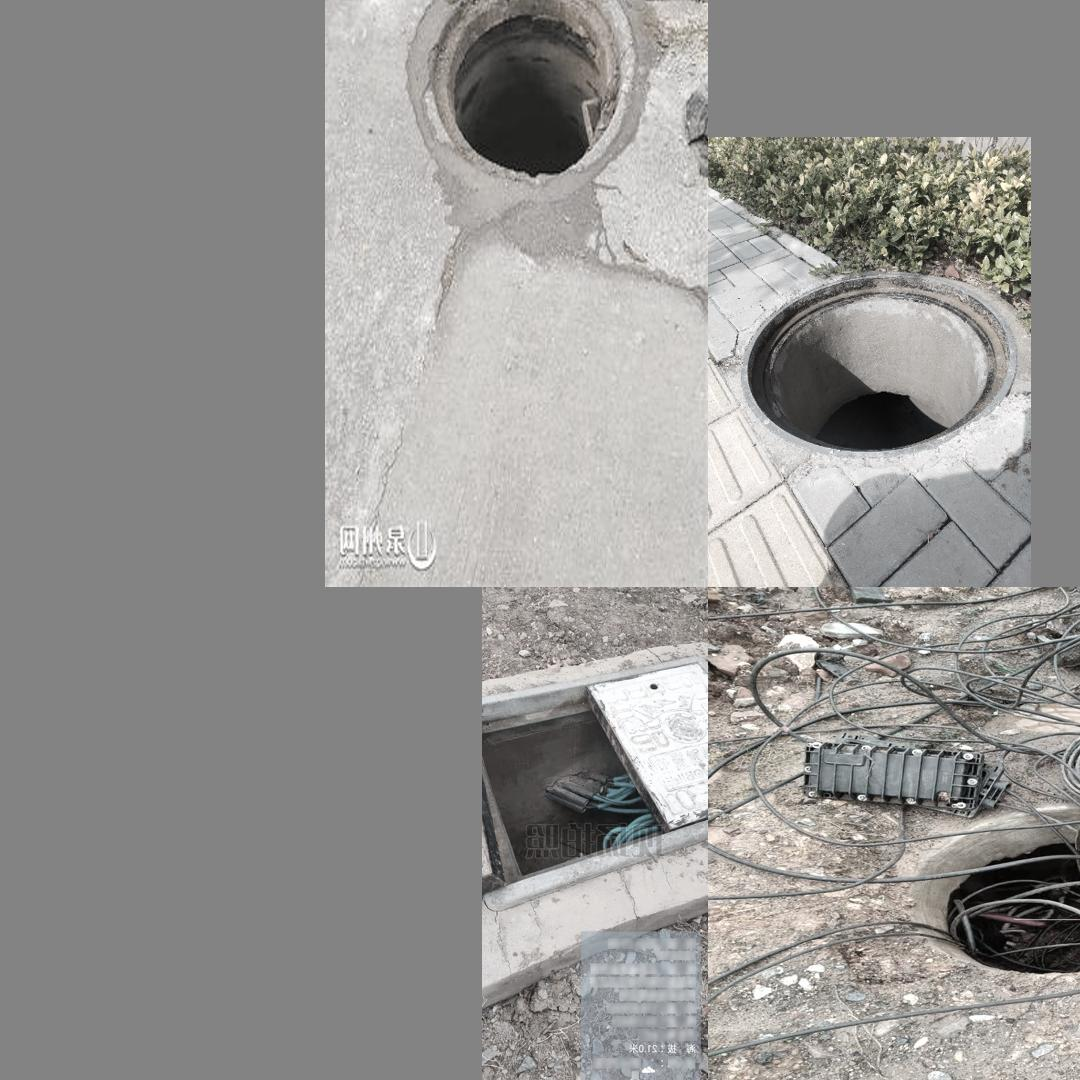lose: (823, 781, 1080, 1006), (481, 656, 707, 906), (739, 273, 1017, 459), (399, 0, 655, 199)
